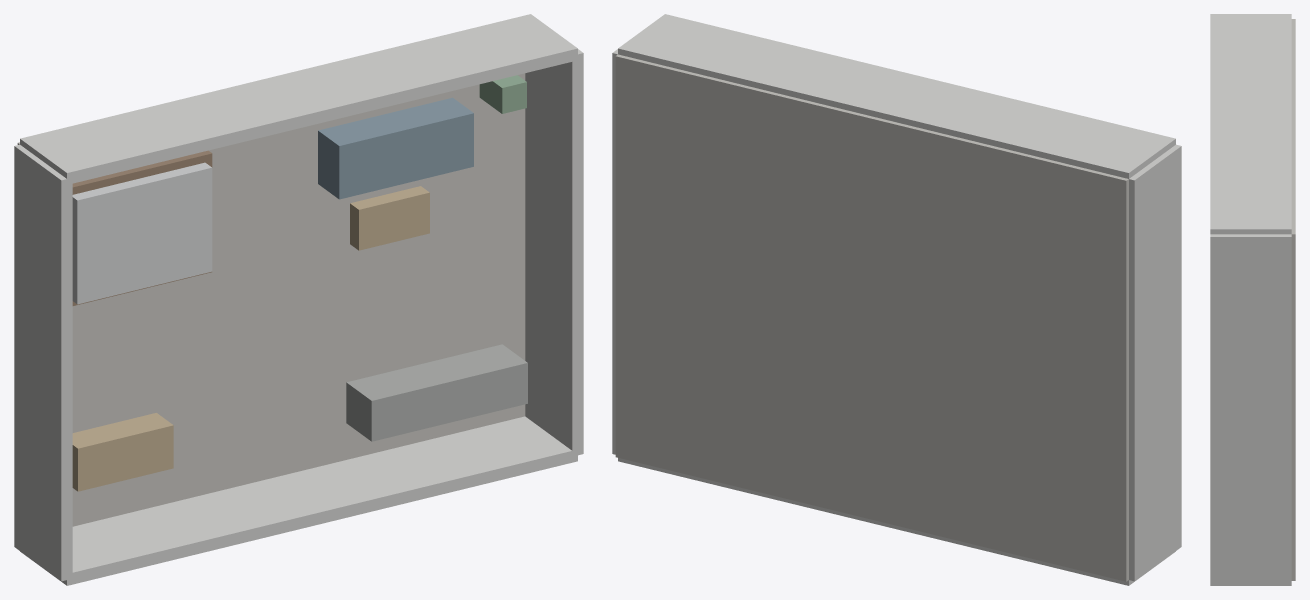
File: sample_2_studio.glb
3 views of the same model, side by side, from view 1: azimuth 30°, elevation 25°; view 2: azimuth 150°, elevation 25°; view 3: azimuth 270°, elevation 25° (orthographic). The views are drawn at different scales.
Parts seen in each view (by area): view 1: floor, wall_north, wall_south, wall_west, wall_east, mattress, kitchen_run, sofa, desk, coffee_table, bed_frame, plant; view 2: floor, wall_north, wall_west, wall_south, wall_east; view 3: wall_east, wall_north, floor, wall_south.
Boxes of the visible parts, x1=… form: floor: x1=17, y1=73, x2=525, y2=526; wall_north: x1=20, y1=14, x2=577, y2=184; wall_south: x1=20, y1=416, x2=577, y2=585; wall_west: x1=14, y1=144, x2=72, y2=581; wall_east: x1=525, y1=49, x2=583, y2=455; mattress: x1=72, y1=162, x2=212, y2=304; kitchen_run: x1=346, y1=344, x2=527, y2=441; sofa: x1=318, y1=97, x2=473, y2=199; desk: x1=72, y1=413, x2=173, y2=491; coffee_table: x1=350, y1=186, x2=429, y2=250; bed_frame: x1=72, y1=150, x2=212, y2=305; plant: x1=479, y1=75, x2=526, y2=113; floor: x1=615, y1=54, x2=1128, y2=581; wall_north: x1=618, y1=14, x2=1175, y2=178; wall_west: x1=1129, y1=144, x2=1181, y2=581; wall_south: x1=618, y1=458, x2=1175, y2=585; wall_east: x1=612, y1=49, x2=617, y2=454; wall_east: x1=1210, y1=234, x2=1291, y2=583; wall_north: x1=1210, y1=14, x2=1291, y2=234; floor: x1=1291, y1=19, x2=1295, y2=580; wall_south: x1=1210, y1=583, x2=1291, y2=585.
Size of the model in its own units: 7.36 by 5.56 by 1.21.
